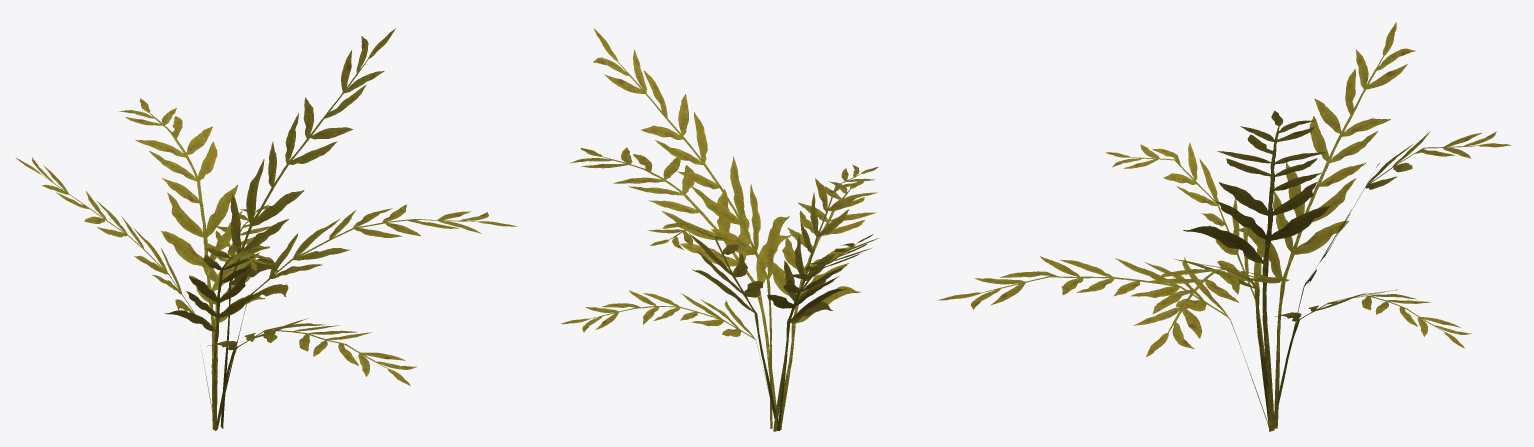
Rendered from SM_Plant_02.fbx.
3 renders of one model, left to right at view 1: azimuth 30°, elevation 25°; view 2: azimuth 150°, elevation 25°; view 3: azimuth 270°, elevation 25°, orthographic. The views are drawn at different scales.
Parts seen in each view (by area): view 1: SM_Plant_02_LOD0; view 2: SM_Plant_02_LOD0; view 3: SM_Plant_02_LOD0.
Part boxes in pixels (box(x1,y1,x2,y2)): SM_Plant_02_LOD0: box(16, 28, 517, 430); SM_Plant_02_LOD0: box(561, 28, 879, 431); SM_Plant_02_LOD0: box(938, 22, 1510, 431).
Size of the model in its own units: 103 by 106 by 83.72.
